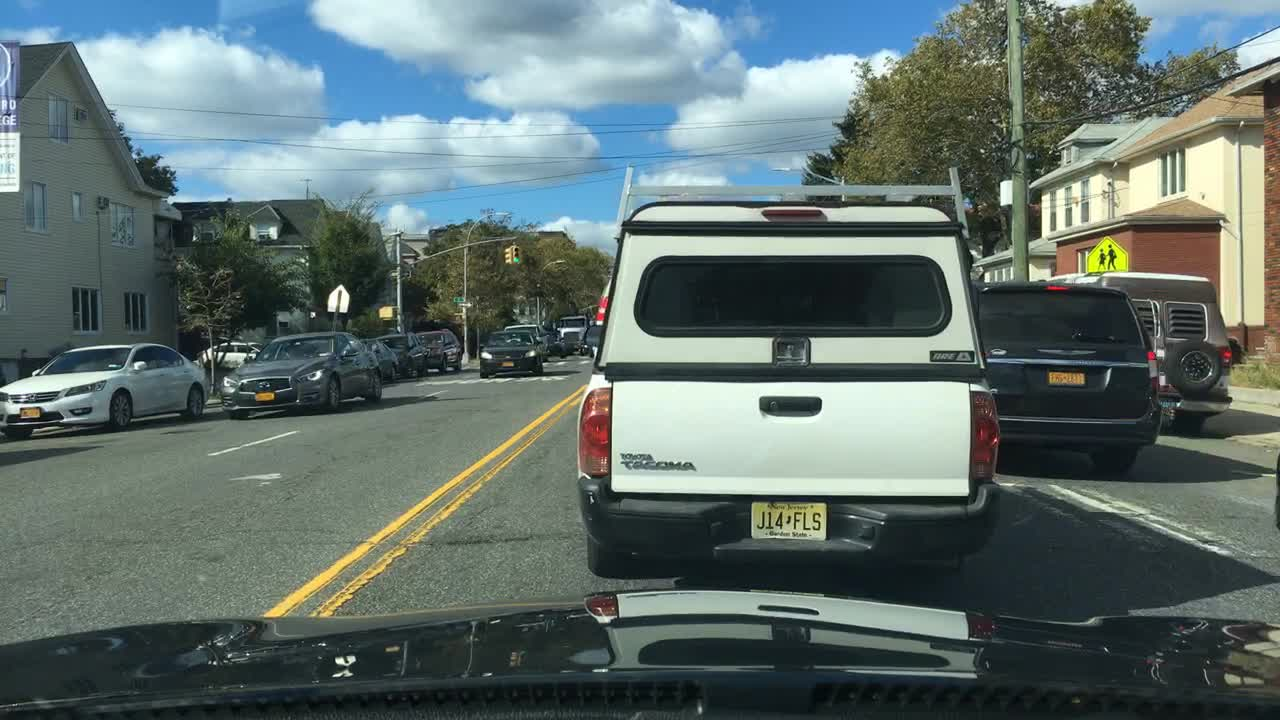car: (573, 159, 1003, 585), (969, 275, 1165, 482), (1029, 270, 1227, 429), (0, 341, 210, 441), (218, 329, 386, 421), (478, 326, 545, 375), (381, 329, 429, 377), (586, 276, 609, 366), (357, 337, 404, 380), (418, 328, 462, 371), (504, 322, 557, 357), (193, 337, 270, 361)
traffic light: (378, 303, 398, 319), (509, 243, 519, 263), (500, 244, 511, 261)
traffic sign: (1082, 237, 1128, 272), (998, 176, 1030, 208), (328, 285, 349, 311), (450, 293, 468, 301), (456, 298, 471, 307)
truck: (553, 315, 589, 357)
